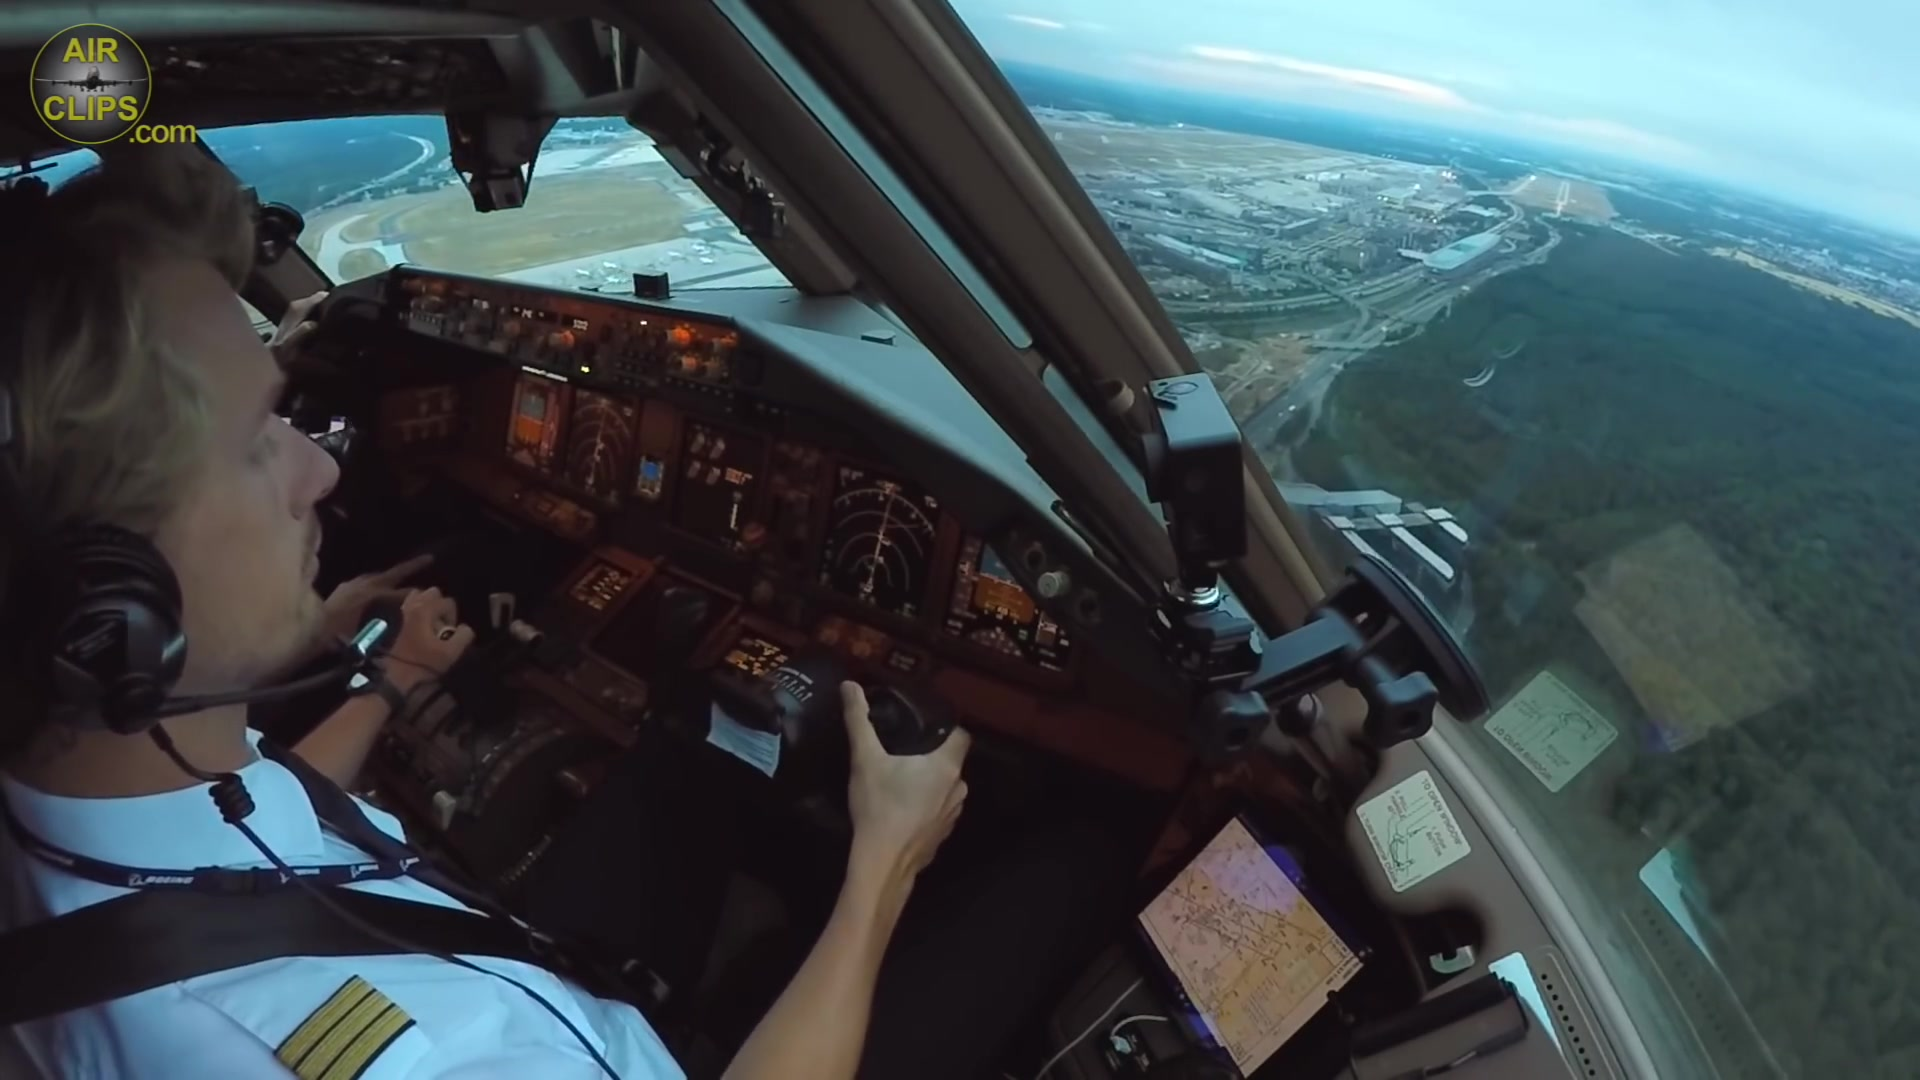runway: (1553, 177, 1573, 206)
